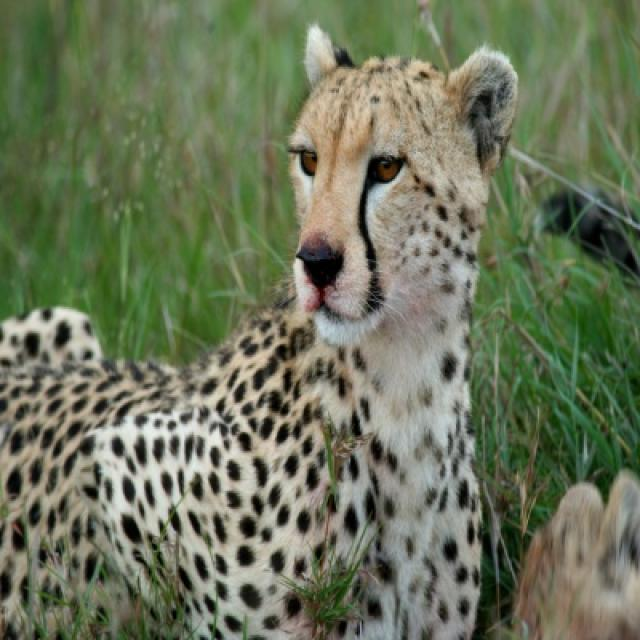Cheetah: (0, 24, 518, 638)
